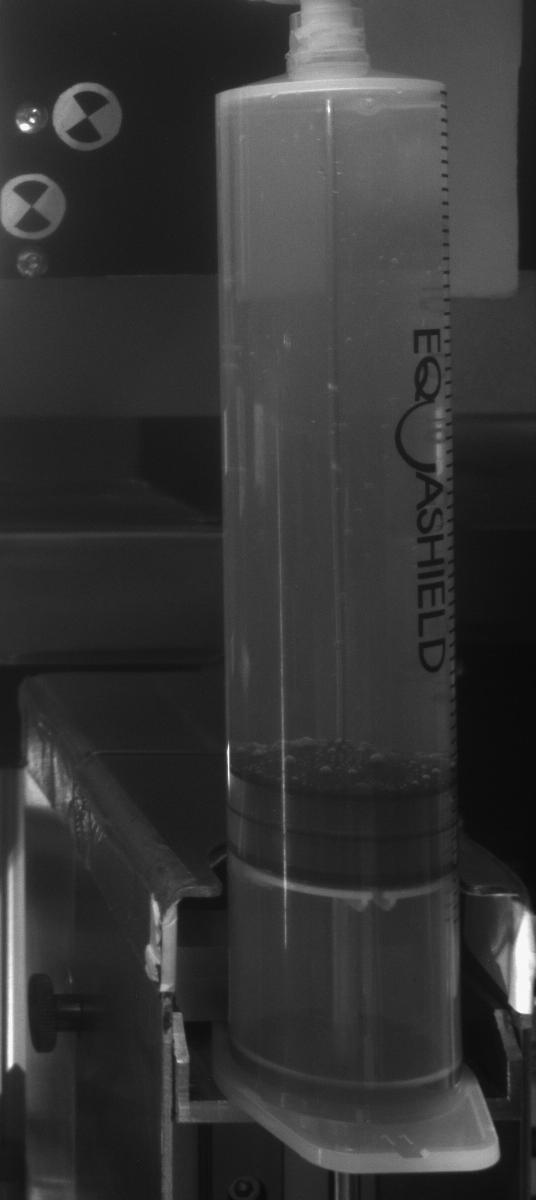piston: (226, 770, 463, 912)
